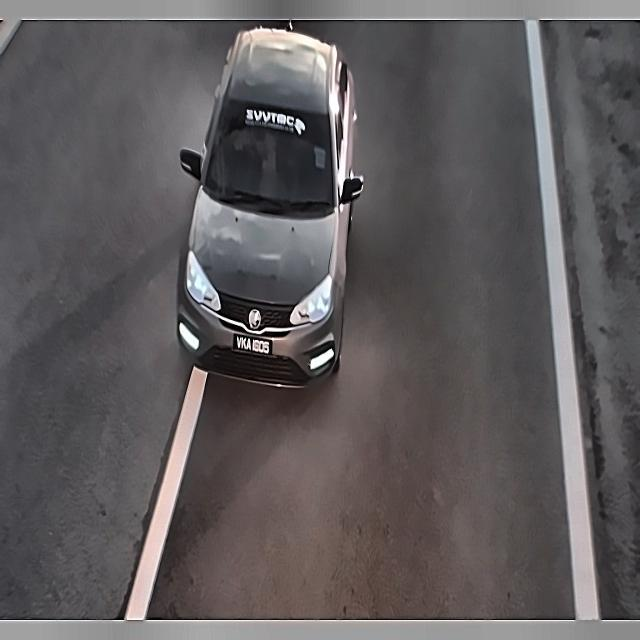car: (230, 329, 276, 359)
